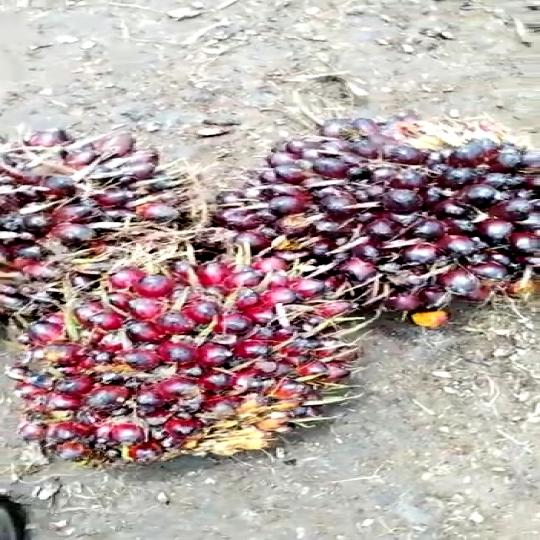kurang masak: (0, 233, 387, 491), (246, 93, 540, 338), (0, 130, 228, 348)
